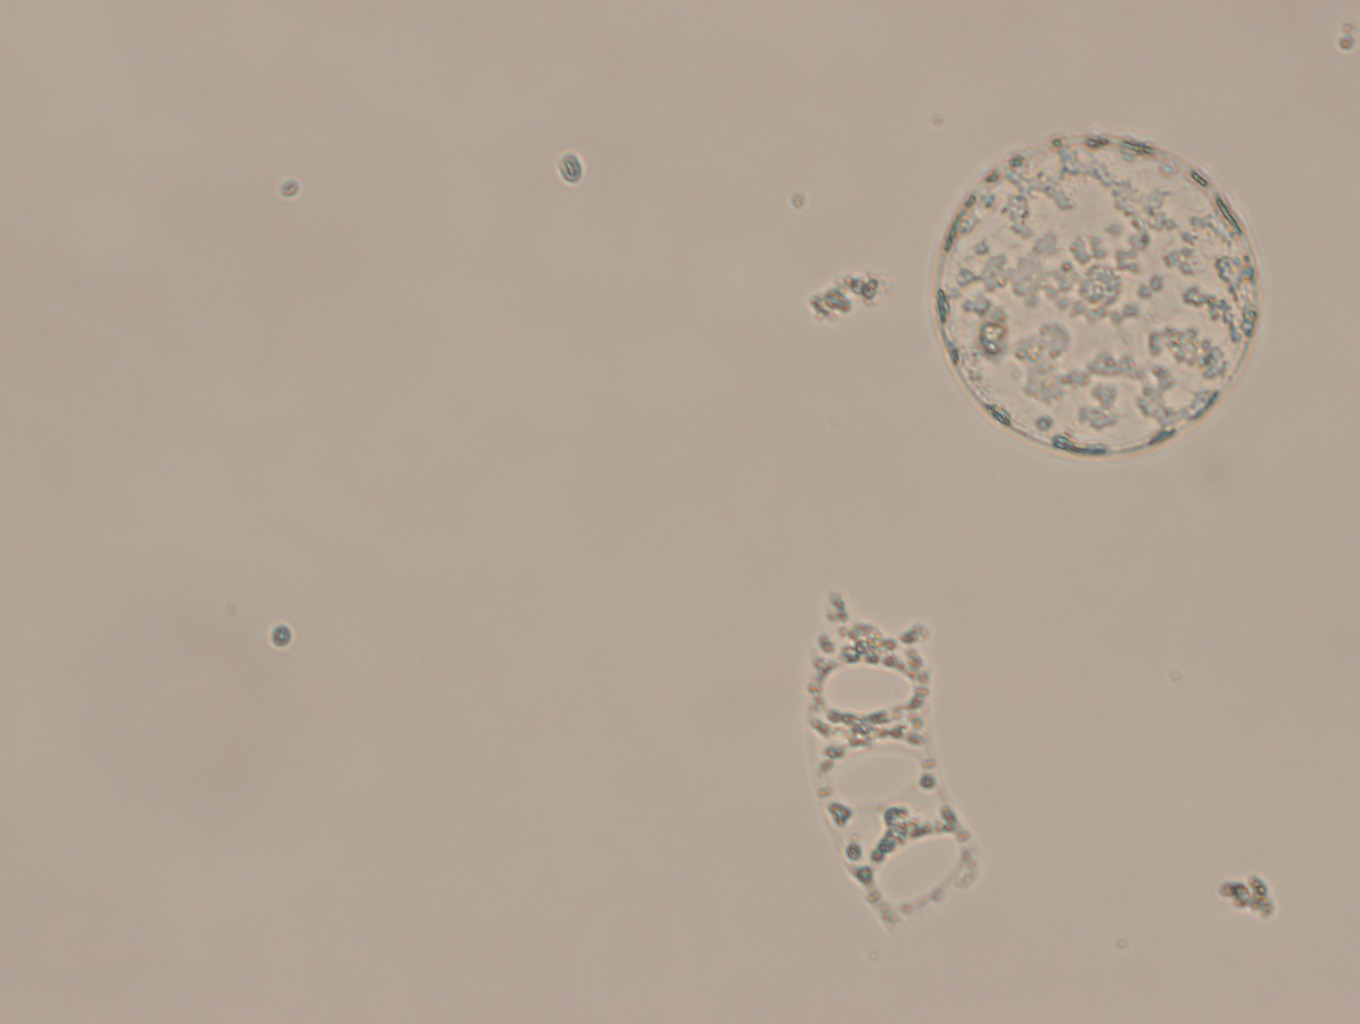coscinodiscus: (920, 126, 1262, 460)
eucampia: (798, 584, 1000, 936)
